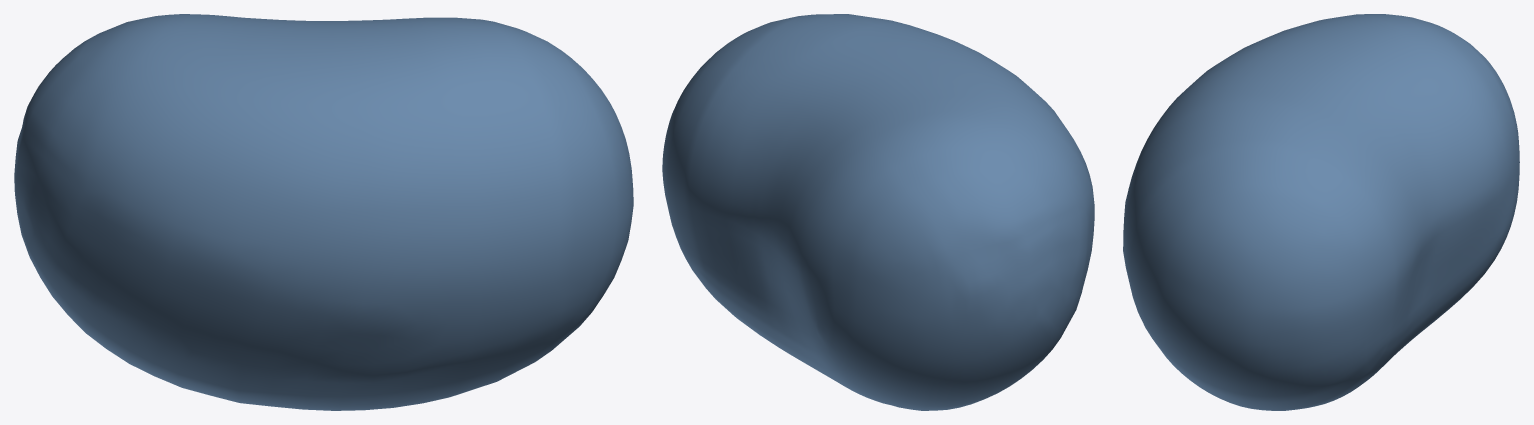
File: jellyBeanBlue.fbx
The picture shows the model from 3 angles, left to right: view 1: azimuth 30°, elevation 25°; view 2: azimuth 150°, elevation 25°; view 3: azimuth 270°, elevation 25°; orthographic projection. The views are drawn at different scales.
Parts seen in each view (by area): view 1: pasted__pasted__model1; view 2: pasted__pasted__model1; view 3: pasted__pasted__model1.
Boxes of the visible parts, <box> form: pasted__pasted__model1: <box>14,14,633,410</box>; pasted__pasted__model1: <box>662,14,1094,410</box>; pasted__pasted__model1: <box>1123,14,1519,410</box>.
Size of the model in its own units: 2.02 by 1.37 by 1.64.
